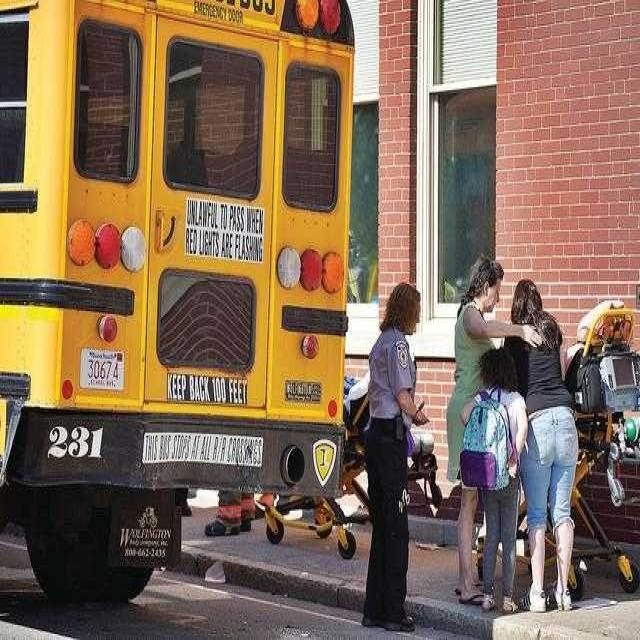Bus: (0, 0, 386, 622)
